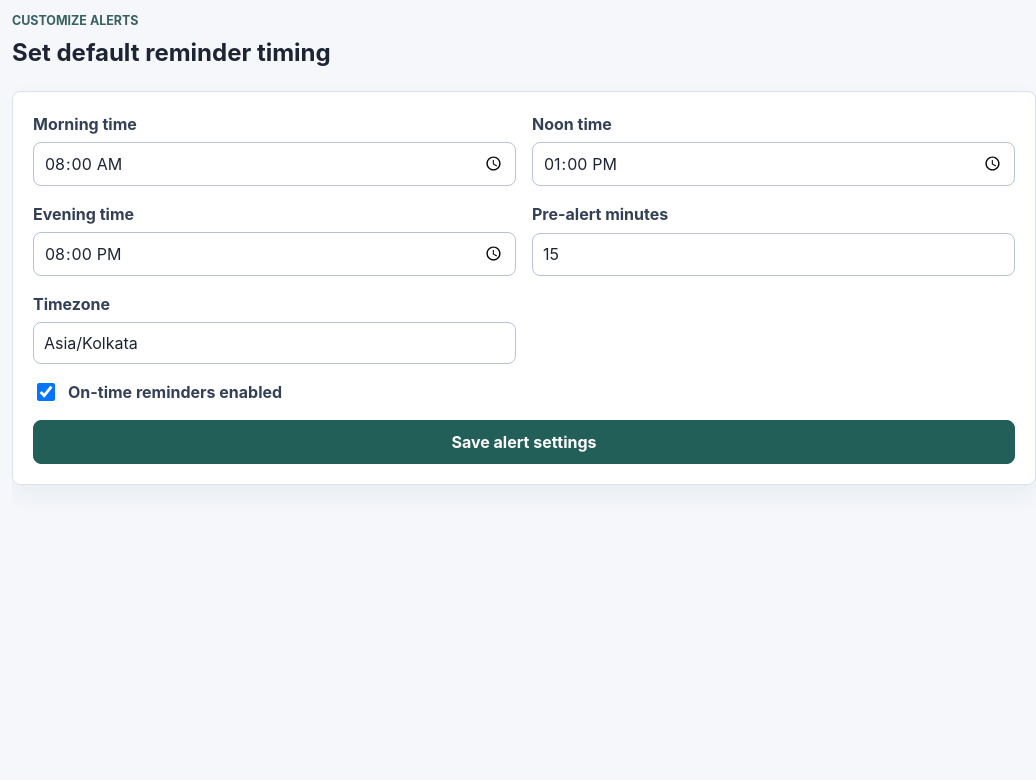
Test: AlertSettingsModule › loads and saves alert settings
Replace the text in the time field labelled "Morning time" with "07:30": (274, 164) 33,142 -> 516,186
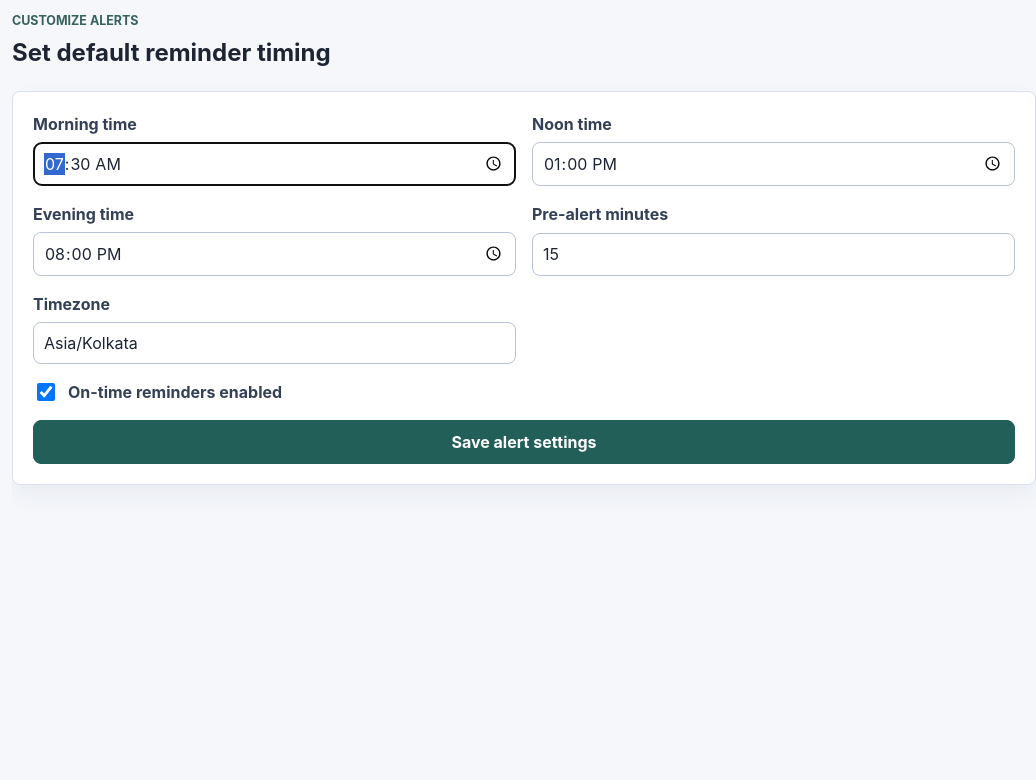
Click the button "Save alert settings": (524, 442) 33,420 -> 1015,464
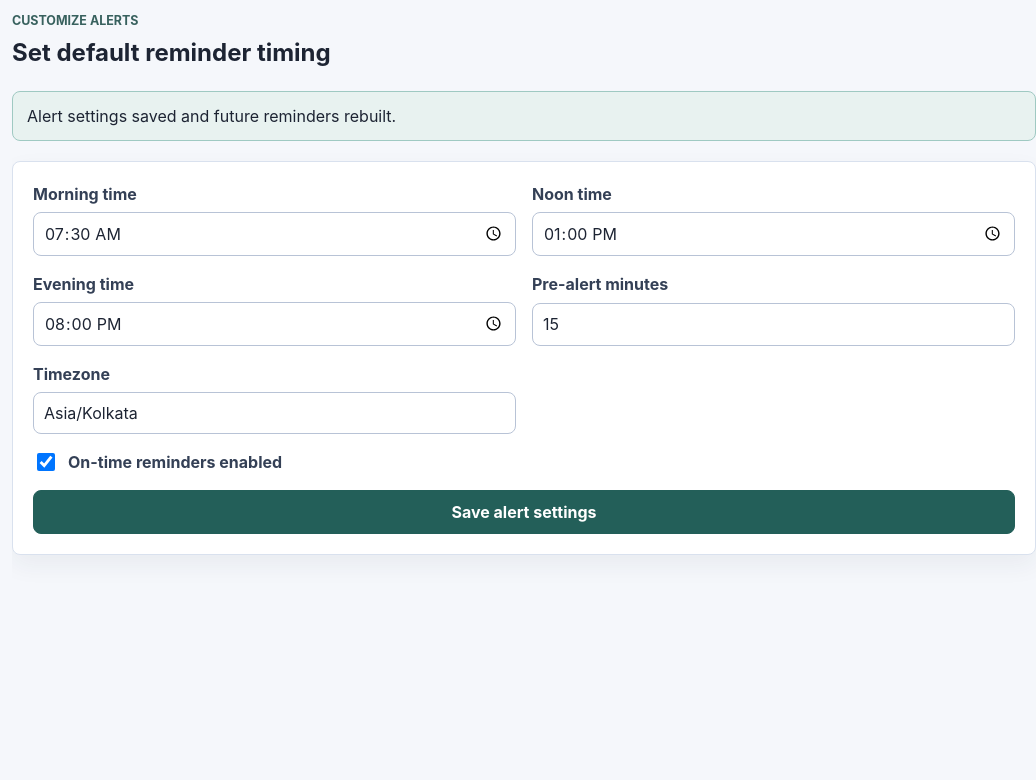
Expected: the text "Alert settings saved and future reminders rebuilt." is shown, 12,91 -> 1035,141
